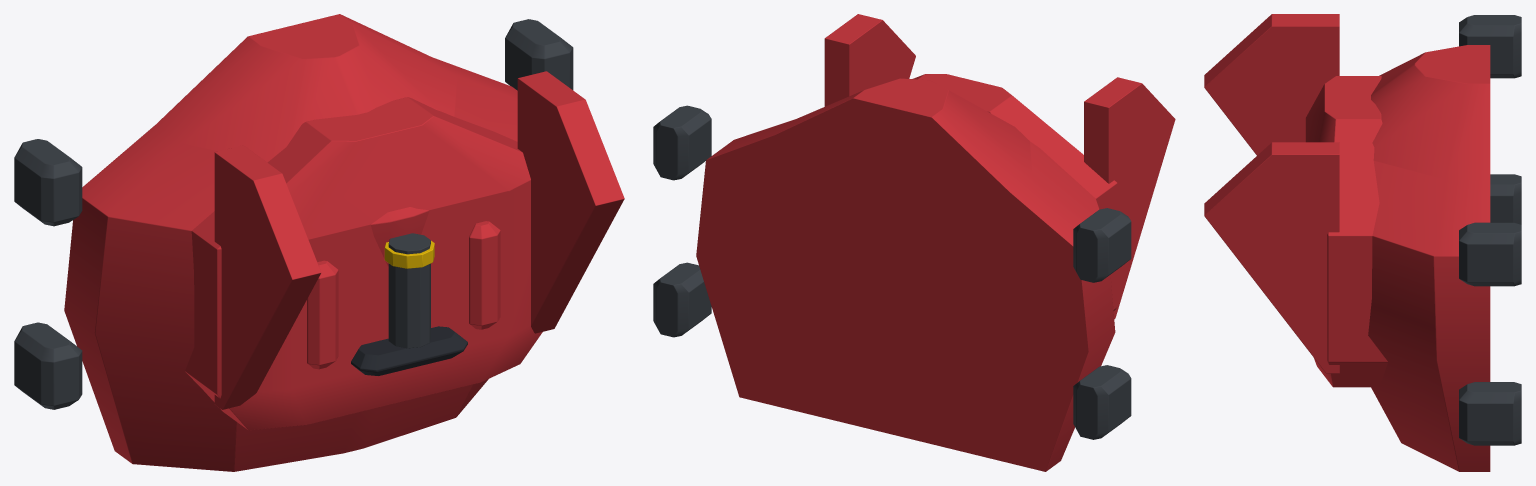
Rendered from ShoulderFront_Set08_Goliath.fbx.
3 renders of one model, left to right at view 1: azimuth 30°, elevation 25°; view 2: azimuth 150°, elevation 25°; view 3: azimuth 270°, elevation 25°, orthographic. The views are drawn at different scales.
Visible parts, largest first — view 1: ShoulderFront_Set08_Goliath; view 2: ShoulderFront_Set08_Goliath; view 3: ShoulderFront_Set08_Goliath.
Boxes of the visible parts, x1,y1,x2,y2 form: ShoulderFront_Set08_Goliath: (14, 14, 624, 471); ShoulderFront_Set08_Goliath: (653, 14, 1175, 471); ShoulderFront_Set08_Goliath: (1204, 14, 1521, 471).
Size of the model in its own units: 0.51 by 0.35 by 0.3034.
